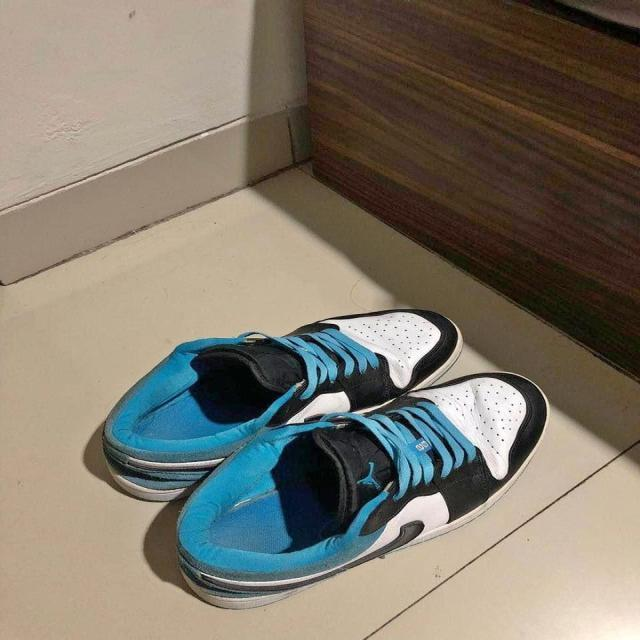nike fake jordan 1: (170, 370, 548, 608), (100, 304, 464, 514)
